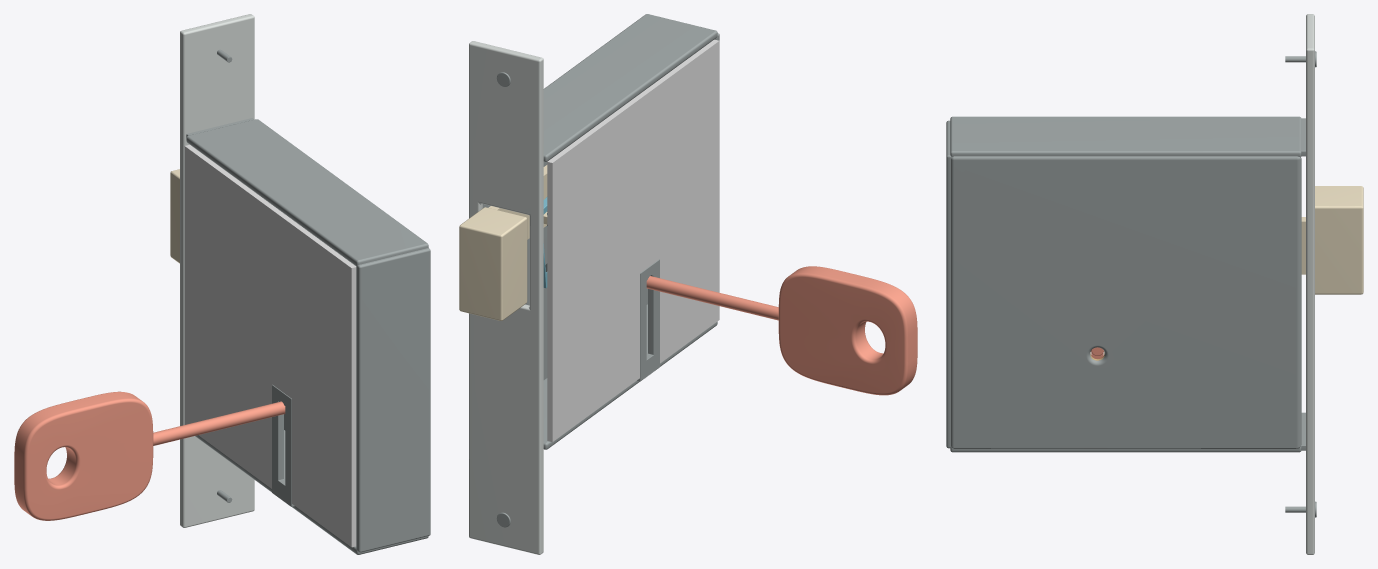
Rendered from lever.glb.
3 views of the same model, side by side, from view 1: azimuth 30°, elevation 25°; view 2: azimuth 150°, elevation 25°; view 3: azimuth 270°, elevation 25° (orthographic). The views are drawn at different scales.
Parts seen in each view (by area): view 1: Removable case cover, Mortice case rear edge (inspection), Key bow (inspection), Door edge faceplate (inspection), Mortice case horizontal rim.001 (inspection), Keyhole cover island (inspection), Key shaft (inspection), Assembly bolt body (inspection), Mortice case horizontal rim (inspection); view 2: Removable case cover, Door edge faceplate (inspection), Key bow (inspection), Mortice case horizontal rim.001 (inspection), Assembly bolt body (inspection), Keyhole cover island (inspection), Key shaft (inspection), Mortice case horizontal rim (inspection), Vertical mortice case back (inspection); view 3: Vertical mortice case back (inspection), Mortice case horizontal rim.001 (inspection), Assembly bolt body (inspection), Door edge faceplate (inspection), Mortice case rear edge (inspection), Mortice case horizontal rim (inspection).
Boxes of the visible parts, x1,y1,x2,y2 form: Removable case cover: (184, 144, 356, 547); Mortice case rear edge (inspection): (356, 248, 430, 552); Key bow (inspection): (14, 391, 153, 520); Door edge faceplate (inspection): (180, 14, 254, 527); Mortice case horizontal rim.001 (inspection): (186, 119, 428, 265); Keyhole cover island (inspection): (272, 384, 294, 506); Key shaft (inspection): (153, 401, 285, 445); Assembly bolt body (inspection): (170, 169, 179, 263); Mortice case horizontal rim (inspection): (195, 430, 428, 554); Removable case cover: (547, 39, 719, 442); Door edge faceplate (inspection): (469, 41, 543, 554); Key bow (inspection): (778, 266, 917, 395); Mortice case horizontal rim.001 (inspection): (543, 14, 717, 161); Assembly bolt body (inspection): (459, 207, 527, 320); Keyhole cover island (inspection): (637, 259, 659, 381); Key shaft (inspection): (646, 276, 778, 320); Mortice case horizontal rim (inspection): (543, 304, 717, 449); Vertical mortice case back (inspection): (483, 161, 647, 379); Vertical mortice case back (inspection): (951, 156, 1301, 448); Mortice case horizontal rim.001 (inspection): (950, 116, 1301, 157); Assembly bolt body (inspection): (1315, 186, 1363, 294); Door edge faceplate (inspection): (1306, 14, 1314, 554); Mortice case rear edge (inspection): (946, 120, 951, 448); Mortice case horizontal rim (inspection): (950, 446, 1301, 452).
Bounding box in the file's own units: 4.53 × 6.3 × 4.7.
